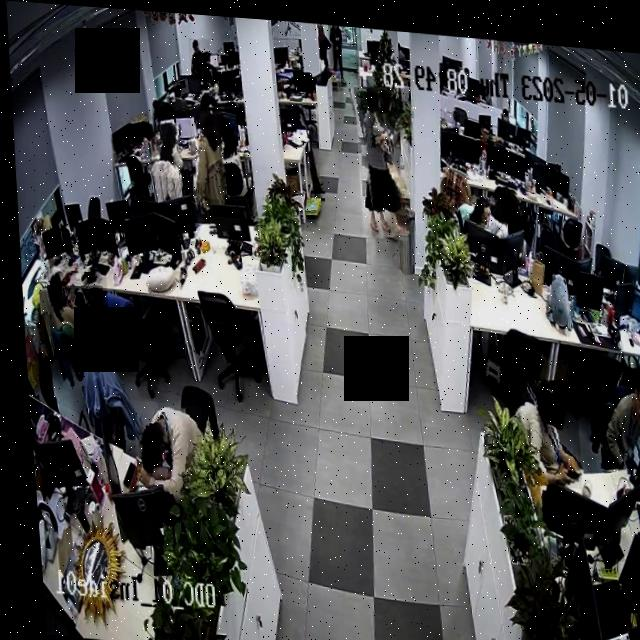person: (350, 79, 407, 234), (503, 368, 577, 480), (125, 398, 200, 494), (40, 267, 107, 362), (589, 359, 640, 469), (186, 105, 225, 197), (146, 117, 180, 175), (462, 187, 505, 231), (217, 115, 239, 176), (469, 115, 492, 163), (187, 35, 211, 79)
